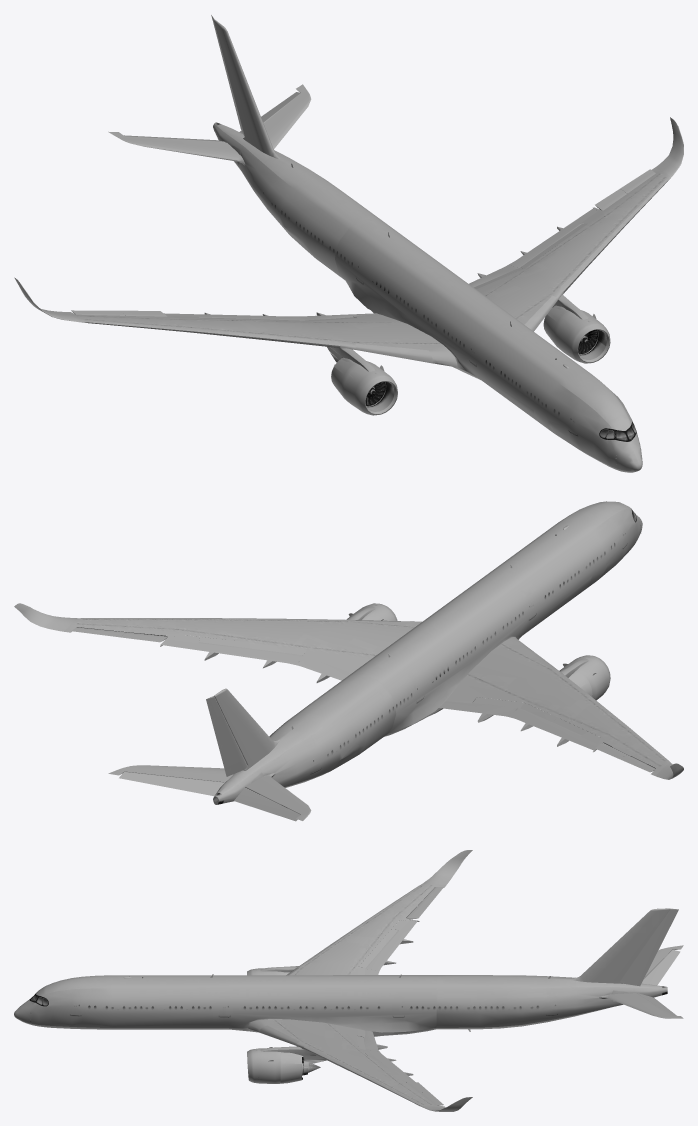
The picture shows the model from 3 angles, top to bottom: view 1: azimuth 30°, elevation 25°; view 2: azimuth 150°, elevation 25°; view 3: azimuth 270°, elevation 25°; orthographic projection. The views are drawn at different scales.
Parts seen in each view (by area): view 1: node_10; view 2: node_10; view 3: node_10.
Boxes of the visible parts, bbox=[...] form: node_10: bbox=[14, 15, 683, 472]; node_10: bbox=[14, 501, 683, 821]; node_10: bbox=[14, 850, 683, 1111].
Bounding box in the file's own units: 64.47 × 16.43 × 73.8.
2 materials, 2 textured.
